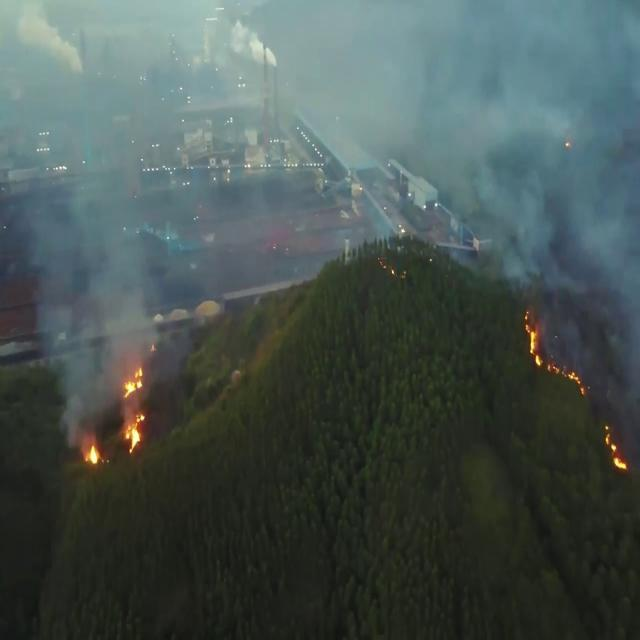Fire: (523, 306, 587, 398), (603, 420, 629, 473), (124, 412, 146, 454), (121, 366, 142, 398), (88, 444, 100, 466)
Smoke: (1, 1, 640, 451)
